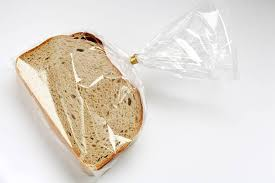bread: (10, 22, 187, 174)
